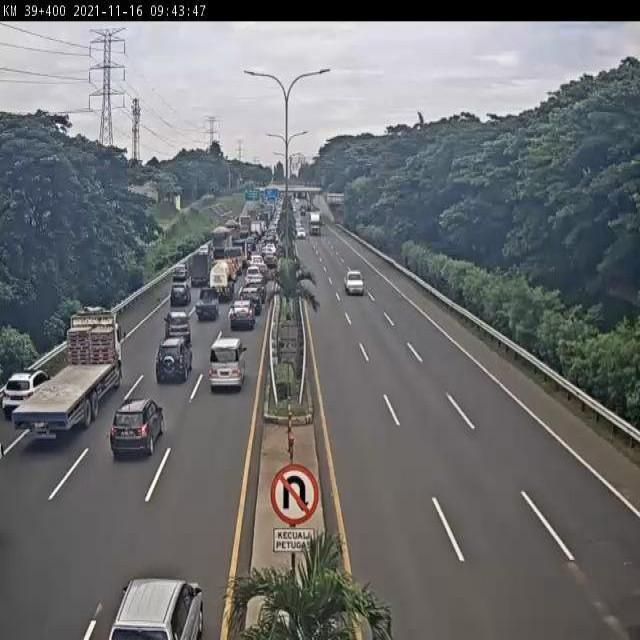car: (106, 581, 204, 640), (110, 399, 165, 461), (4, 369, 51, 414), (208, 337, 246, 392), (156, 336, 194, 383), (166, 314, 194, 349), (195, 288, 219, 321), (230, 300, 254, 333), (240, 288, 262, 315), (167, 287, 189, 312), (345, 269, 365, 296), (165, 266, 187, 286), (246, 280, 266, 301), (246, 265, 264, 284), (248, 254, 264, 266), (297, 227, 304, 236)
small truck: (187, 248, 214, 287), (225, 246, 244, 274)
truck-l-: (13, 308, 124, 433), (308, 210, 320, 233)
truck-m-: (206, 261, 234, 307), (209, 228, 231, 264)
